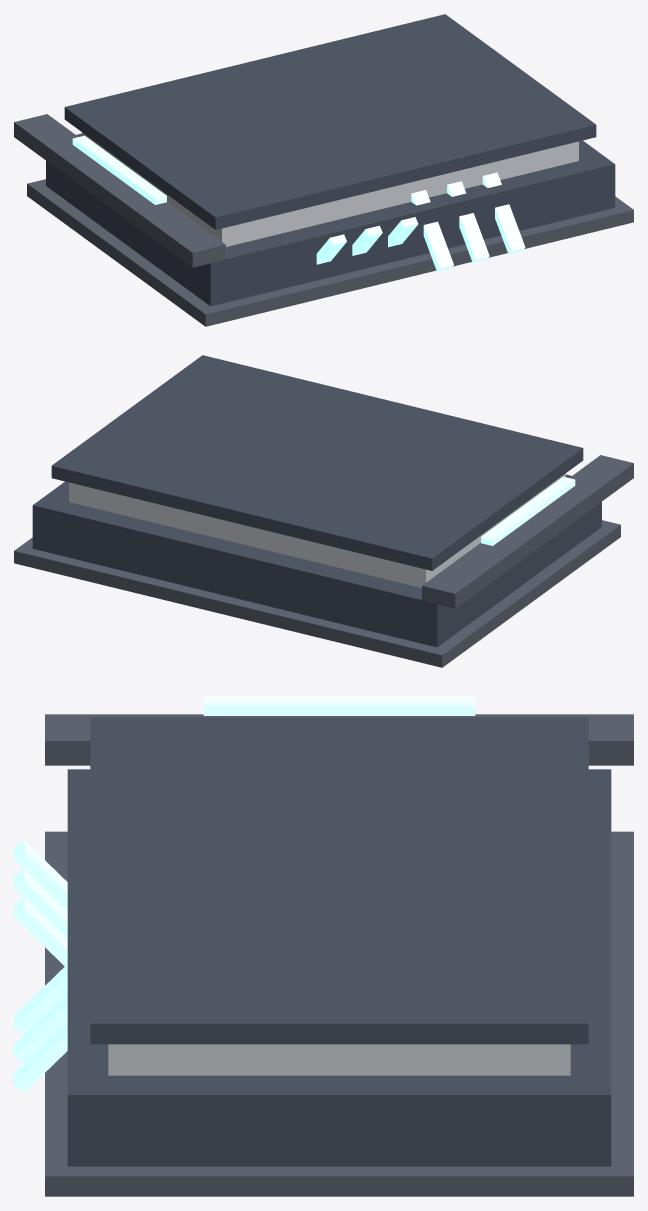
The model's file is AlienKnowledgeBook_POC_V1.fbx.
3 views of the same model, one above another, from view 1: azimuth 30°, elevation 25°; view 2: azimuth 150°, elevation 25°; view 3: azimuth 270°, elevation 25° (orthographic). The views are drawn at different scales.
Visible parts, largest first — view 1: CoverTop, Body, BaseTrim, SpineBar, Pages, GLOW_Spine, GLOW_Front_R_01, GLOW_Front_R_03, GLOW_Front_R_02, GLOW_Front_L_01, GLOW_Front_L_02, GLOW_Front_L_03; view 2: CoverTop, Body, BaseTrim, SpineBar, Pages, GLOW_Spine; view 3: CoverTop, Body, BaseTrim, Pages, SpineBar, GLOW_Spine, GLOW_Front_L_03, GLOW_Front_R_03, GLOW_Front_R_02, GLOW_Front_R_01, GLOW_Front_L_02, GLOW_Front_L_01.
Part boxes in pixels (left/top/right/bottom): CoverTop: left=64, top=14, right=596, bottom=229; Body: left=46, top=133, right=615, bottom=306; BaseTrim: left=27, top=179, right=633, bottom=326; SpineBar: left=14, top=114, right=225, bottom=267; Pages: left=82, top=132, right=578, bottom=246; GLOW_Spine: left=72, top=135, right=166, bottom=204; GLOW_Front_R_01: left=411, top=190, right=453, bottom=271; GLOW_Front_R_03: left=482, top=172, right=525, bottom=253; GLOW_Front_R_02: left=447, top=181, right=489, bottom=262; GLOW_Front_L_01: left=316, top=234, right=346, bottom=264; GLOW_Front_L_02: left=352, top=225, right=382, bottom=255; GLOW_Front_L_03: left=388, top=217, right=418, bottom=247; CoverTop: left=51, top=355, right=583, bottom=570; Body: left=32, top=474, right=601, bottom=647; BaseTrim: left=14, top=520, right=620, bottom=667; SpineBar: left=422, top=455, right=633, bottom=608; Pages: left=69, top=473, right=565, bottom=587; GLOW_Spine: left=481, top=476, right=575, bottom=545; CoverTop: left=90, top=717, right=588, bottom=1044; Body: left=67, top=769, right=611, bottom=1166; BaseTrim: left=45, top=831, right=633, bottom=1196; Pages: left=108, top=1044, right=570, bottom=1075; SpineBar: left=45, top=714, right=633, bottom=765; GLOW_Spine: left=203, top=696, right=475, bottom=715; GLOW_Front_L_03: left=14, top=897, right=67, bottom=966; GLOW_Front_R_03: left=14, top=1021, right=67, bottom=1092; GLOW_Front_R_02: left=14, top=993, right=67, bottom=1063; GLOW_Front_R_01: left=14, top=964, right=67, bottom=1035; GLOW_Front_L_02: left=14, top=868, right=67, bottom=939; GLOW_Front_L_01: left=14, top=840, right=67, bottom=910.
Size of the model in its own units: 0.371 by 0.075 by 0.2736.
